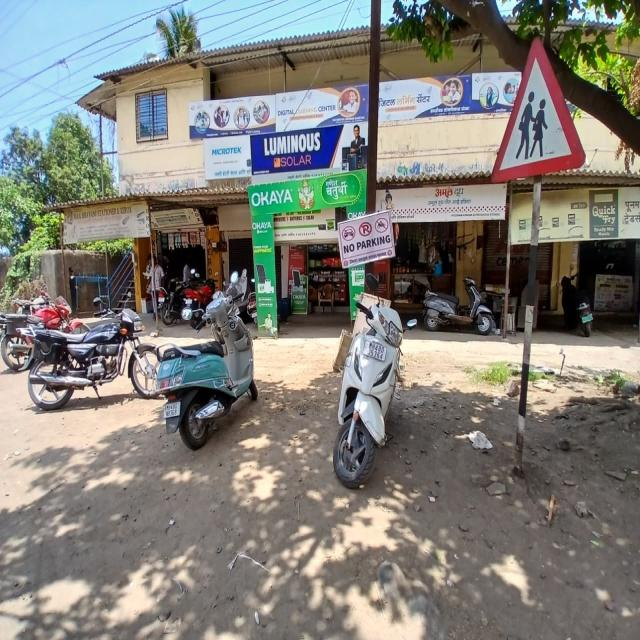illegalparking: (11, 207, 535, 539)
